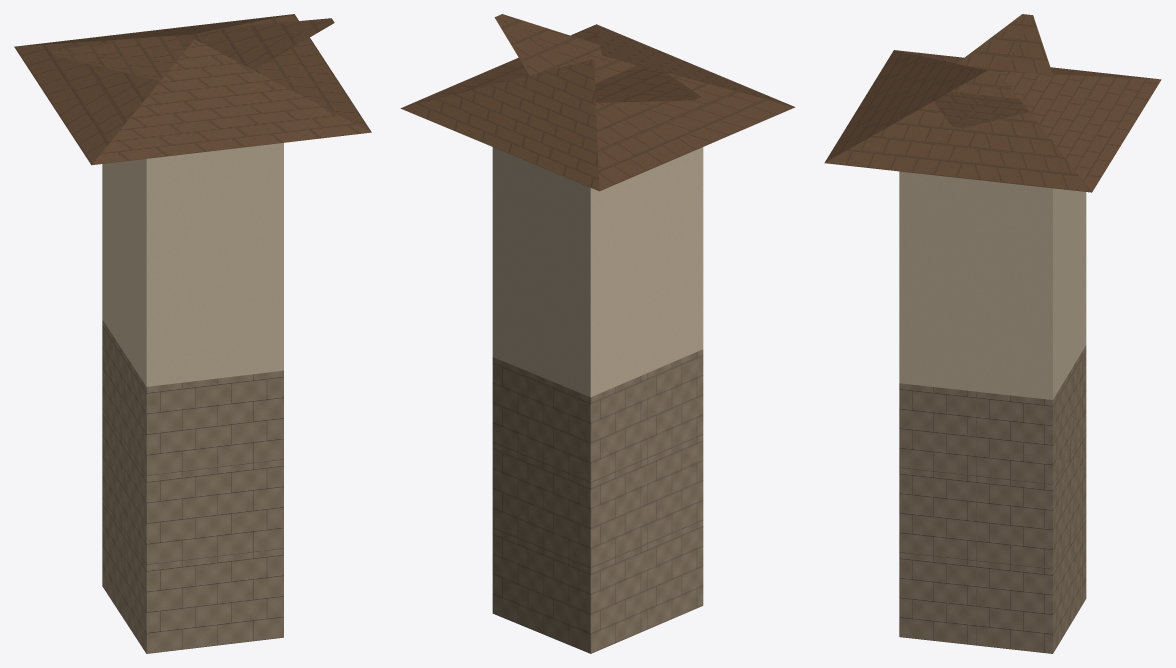
Rendered from bld_c10_9_508.gltf.
3 views of the same model, side by side, from view 1: azimuth 30°, elevation 25°; view 2: azimuth 150°, elevation 25°; view 3: azimuth 270°, elevation 25° (orthographic). The views are drawn at different scales.
Visible parts, largest first — view 1: bld_c10_9_508; view 2: bld_c10_9_508; view 3: bld_c10_9_508.
Boxes of the visible parts, left/top/right/bottom form: bld_c10_9_508: left=14, top=14, right=371, bottom=653; bld_c10_9_508: left=400, top=14, right=795, bottom=653; bld_c10_9_508: left=824, top=14, right=1161, bottom=653.
Bounding box in the file's own units: 6.1 × 10.9 × 6.1.
Materials: 3 (3 with a texture image).
